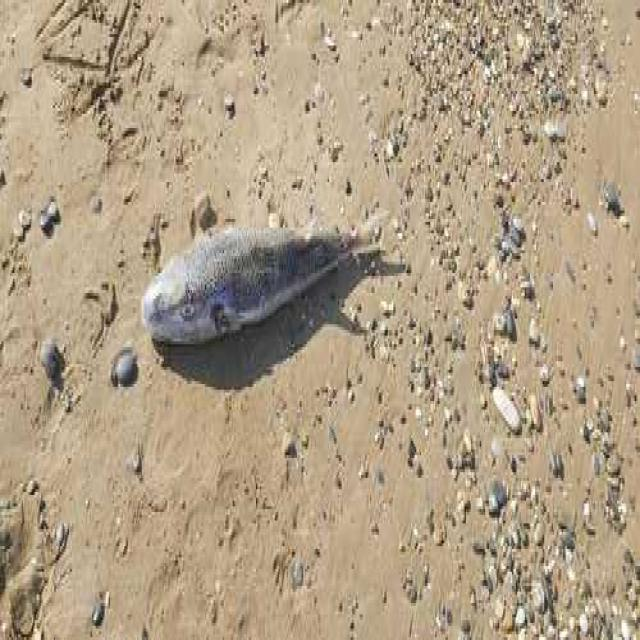Balik: (143, 217, 380, 344)
